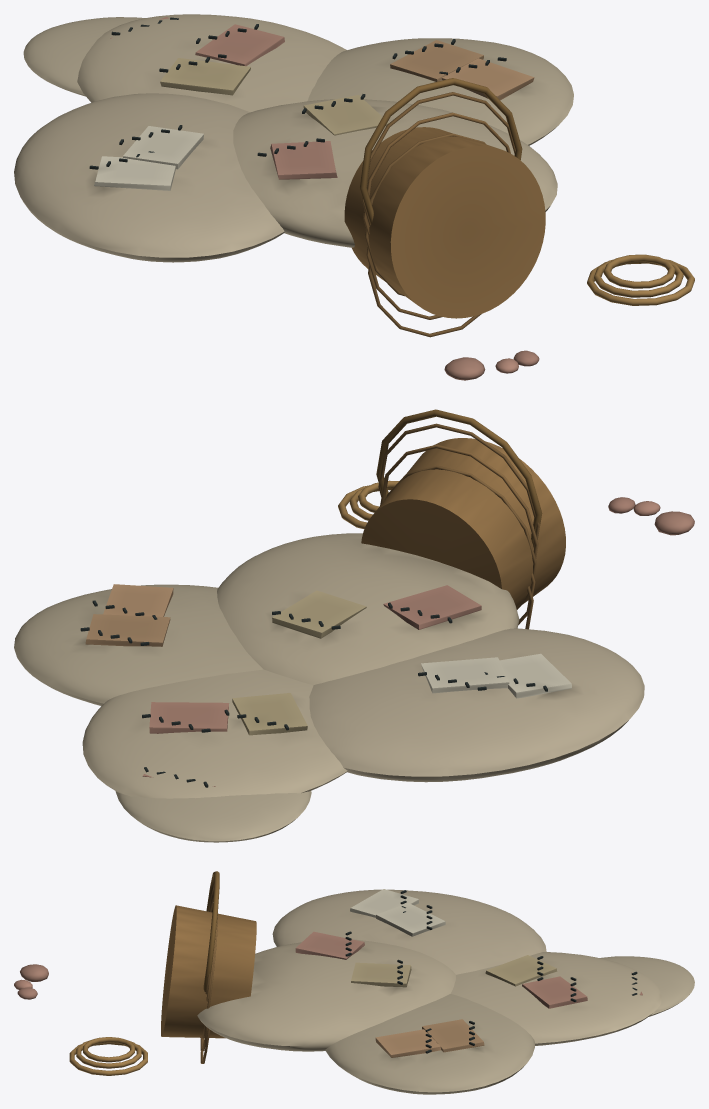
The model's file is balloon_basket_wreck_b.glb.
The picture shows the model from 3 angles, top to bottom: view 1: azimuth 30°, elevation 25°; view 2: azimuth 150°, elevation 25°; view 3: azimuth 270°, elevation 25°; orthographic projection. The views are drawn at different scales.
Parts seen in each view (by area): view 1: Surface; view 2: Surface; view 3: Surface.
Part boxes in pixels (x1,y1,x2,y2): Surface: (14,14,694,380); Surface: (14,409,694,842); Surface: (14,871,694,1094).
Bounding box in the file's own units: 7.45 × 3.18 × 10.87.
